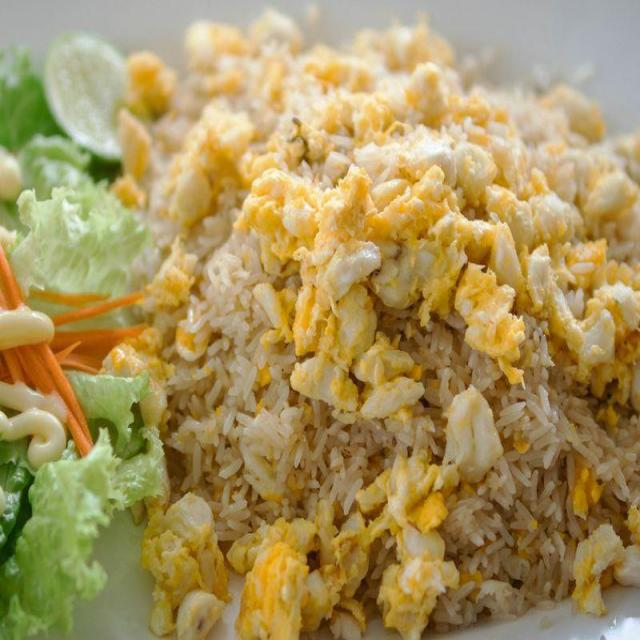Nasi Goreng: (150, 46, 640, 634)
